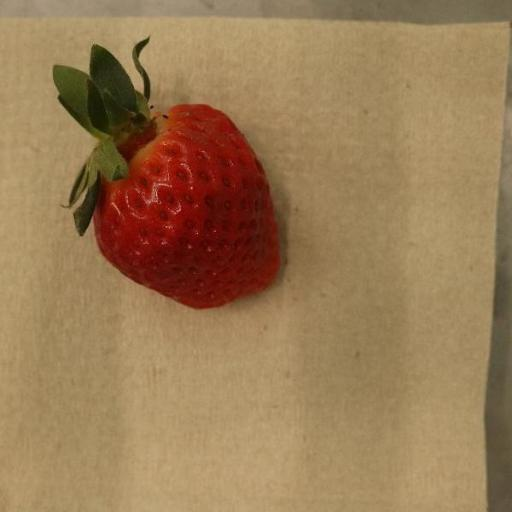Strawberry: (52, 36, 281, 311)
